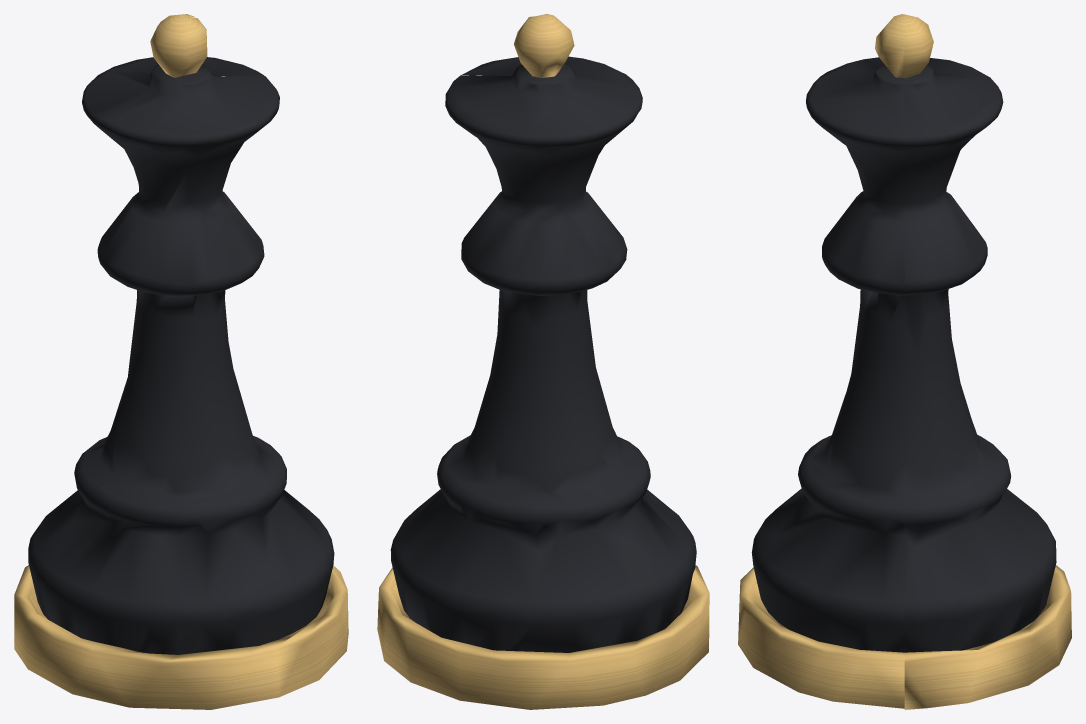
The model's file is aurum_queen_black.glb.
3 views of the same model, side by side, from view 1: azimuth 30°, elevation 25°; view 2: azimuth 150°, elevation 25°; view 3: azimuth 270°, elevation 25° (orthographic).
Visible parts, largest first — view 1: Aurum Noir – Queen; view 2: Aurum Noir – Queen; view 3: Aurum Noir – Queen.
Boxes of the visible parts, x1,y1,x2,y2 form: Aurum Noir – Queen: [14, 14, 348, 709]; Aurum Noir – Queen: [377, 14, 709, 709]; Aurum Noir – Queen: [738, 14, 1071, 709].
Size of the model in its own units: 0.0447 by 0.092 by 0.0447.
Materials: 2 (1 with a texture image).
